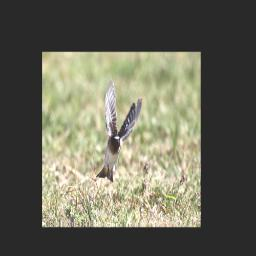Swallow: (96, 79, 143, 183)
